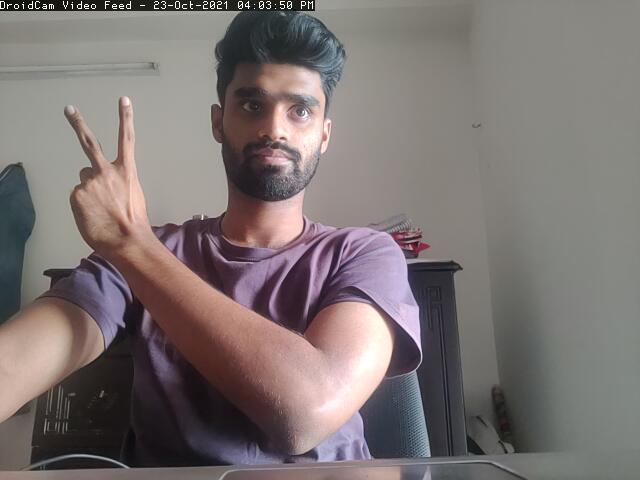Victory: (57, 92, 152, 268)
